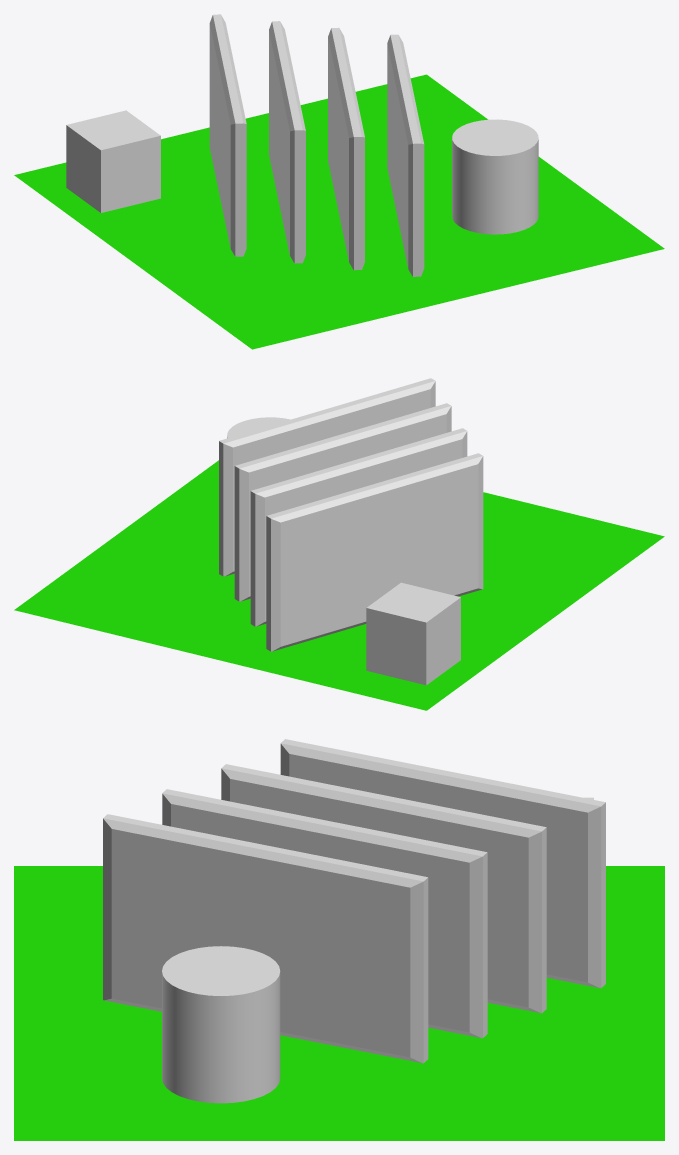
File: glass.fbx
3 renders of one model, top to bottom at view 1: azimuth 30°, elevation 25°; view 2: azimuth 150°, elevation 25°; view 3: azimuth 270°, elevation 25°, orthographic. The views are drawn at different scales.
Visible parts, largest first — view 1: Plane, Cylinder, Cube, Cube.003, Cube.004, Cube.001, Cube.002; view 2: Plane, Cube.003, Cube.001, Cube.002, Cube.004, Cube, Cylinder; view 3: Plane, Cube.004, Cube.001, Cube.003, Cube.002, Cylinder.
Part boxes in pixels (x1,y1,x2,y2): Plane: (14, 74, 664, 349); Cylinder: (452, 119, 538, 234); Cube: (66, 110, 160, 212); Cube.003: (209, 14, 246, 256); Cube.004: (387, 34, 424, 276); Cube.001: (269, 21, 305, 263); Cube.002: (328, 27, 364, 270); Plane: (14, 460, 664, 710); Cube.003: (266, 453, 483, 651); Cube.001: (250, 428, 467, 626); Cube.002: (234, 403, 451, 601); Cube.004: (219, 378, 435, 576); Cube: (366, 582, 460, 685); Cylinder: (227, 417, 290, 438); Plane: (14, 866, 664, 1140); Cube.004: (103, 814, 428, 1063); Cube.001: (221, 764, 546, 1013); Cube.003: (280, 739, 605, 988); Cube.002: (162, 789, 487, 1038); Cylinder: (162, 946, 280, 1103).
Bounding box in the file's own units: 1100 × 340 × 1100.
